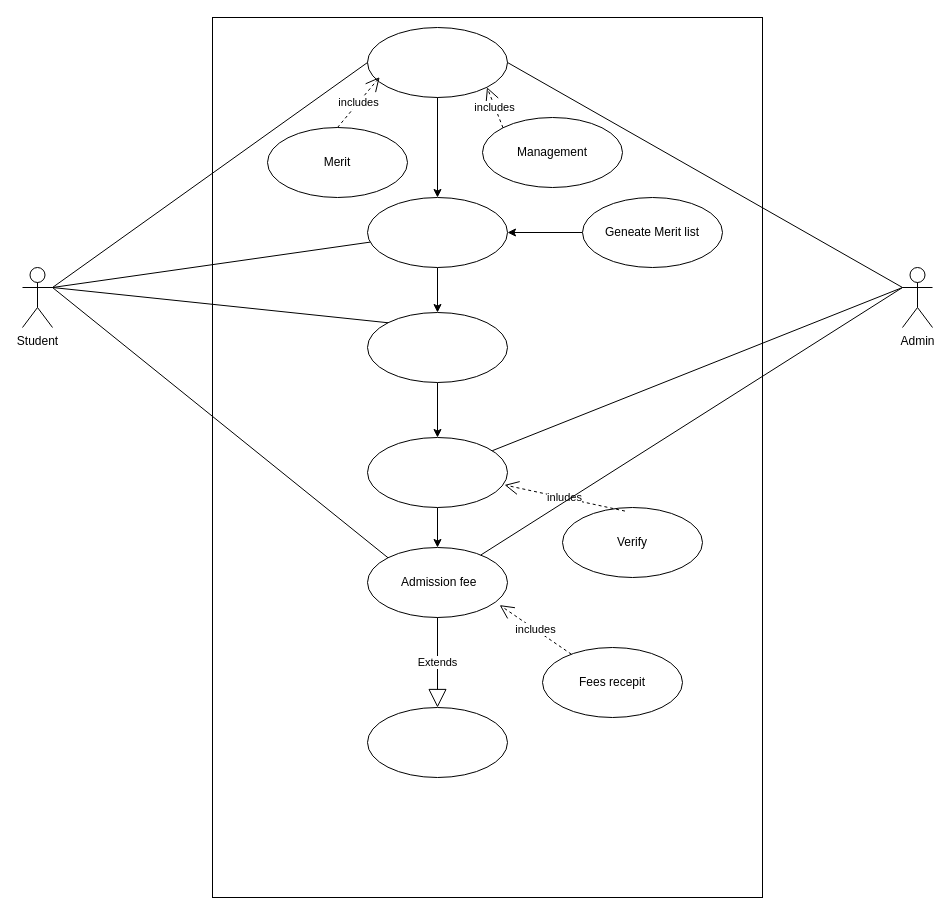
Image size: 952x915. Some labels were removed from this diagram. Here are the shapes that lost their labels. From the top down, the centre of each, then its label:
At point (437, 62): "Form Request".
At point (437, 232): "fill form".
At point (437, 347): "Submit documents".
At point (437, 472): "Store documents".
At point (437, 742): "Application Status".
